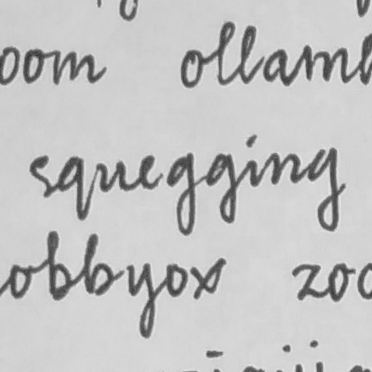e: (136, 152, 161, 191)
g: (305, 145, 346, 233), (163, 150, 200, 237), (203, 150, 239, 226)
i: (241, 131, 263, 189)
n: (268, 150, 303, 186)
q: (56, 153, 90, 222)
s: (27, 153, 55, 200)
u: (94, 157, 129, 195)
